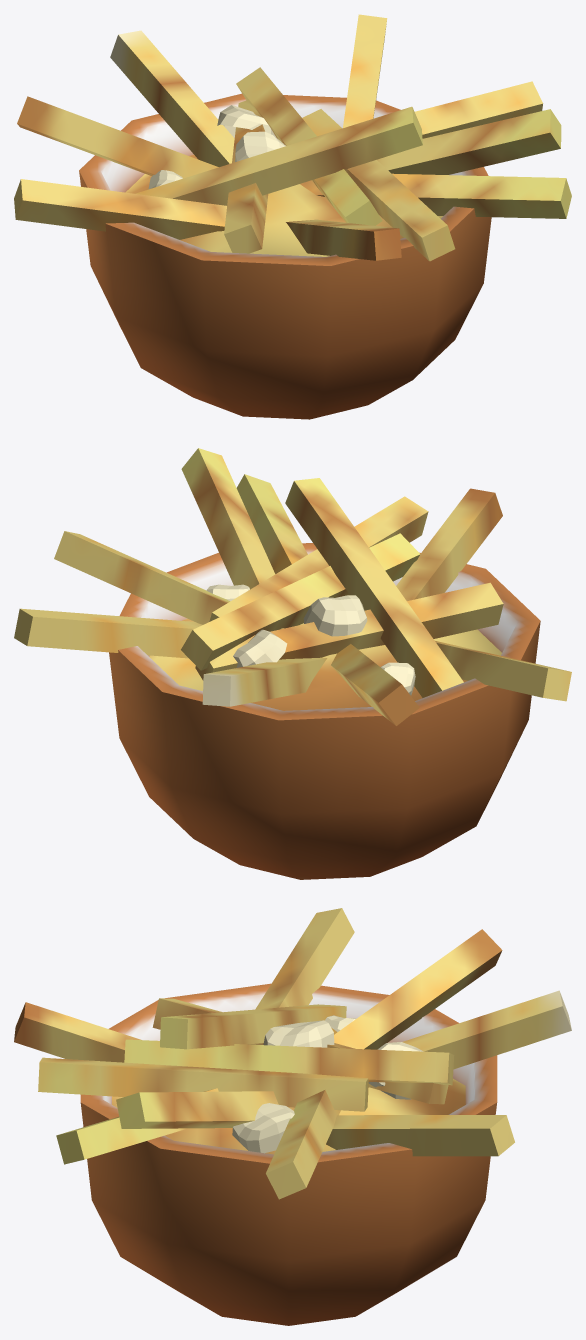
Rendered from BowlPoutine.fbx.
3 views of the same model, one above another, from view 1: azimuth 30°, elevation 25°; view 2: azimuth 150°, elevation 25°; view 3: azimuth 270°, elevation 25° (orthographic). The views are drawn at different scales.
Parts seen in each view (by area): view 1: BowlPoutine; view 2: BowlPoutine; view 3: BowlPoutine.
Part boxes in pixels (<box>): BowlPoutine: <box>14,14,571,419</box>; BowlPoutine: <box>14,448,571,879</box>; BowlPoutine: <box>14,908,571,1325</box>.
Bounding box in the file's own units: 38.18 × 20.62 × 35.
